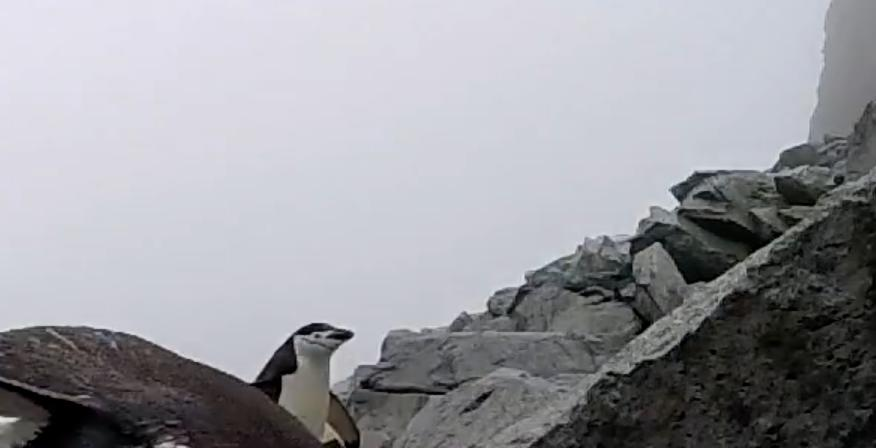Chinstrap Penguin: (0, 292, 524, 448), (262, 307, 357, 400)
